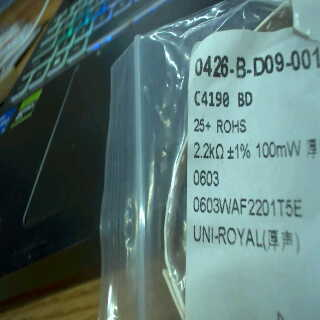2.2kR: (191, 141, 226, 162)
